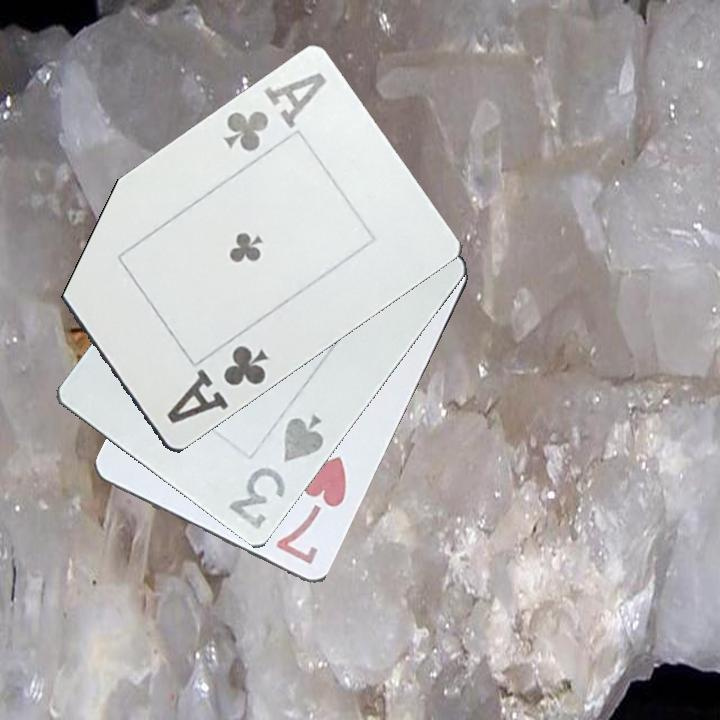3s: (225, 411, 327, 534)
7h: (272, 453, 350, 568)
Ac: (218, 69, 330, 156), (163, 342, 272, 428)
